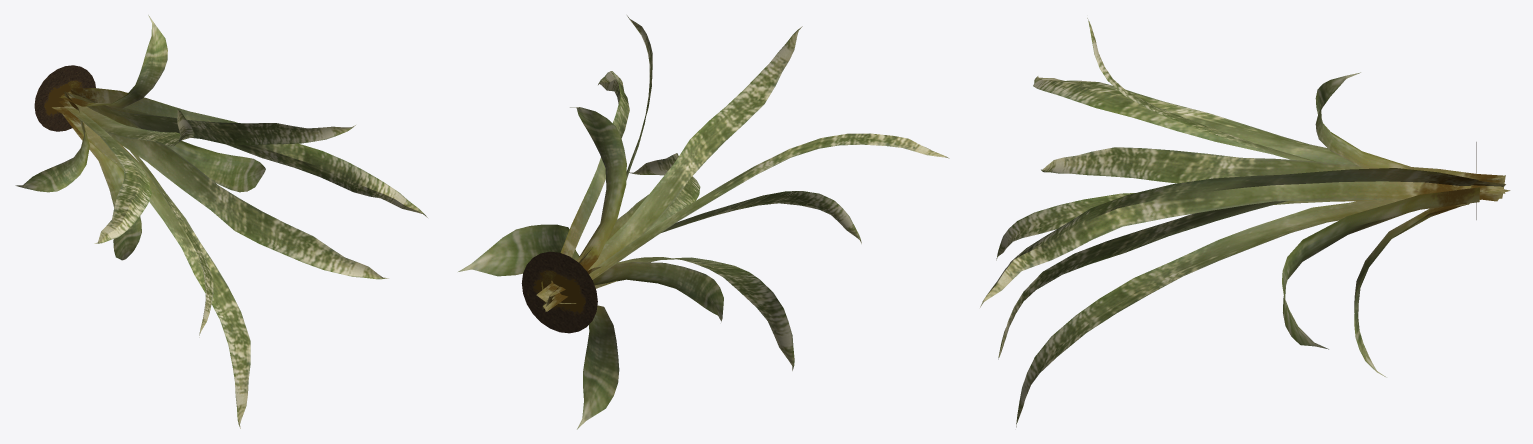
Rendered from MeshHouseplant_6_0_GeomSubset_2.obj.
The picture shows the model from 3 angles, left to right: view 1: azimuth 30°, elevation 25°; view 2: azimuth 150°, elevation 25°; view 3: azimuth 270°, elevation 25°; orthographic projection. The views are drawn at different scales.
Parts seen in each view (by area): view 1: MeshHouseplant_6_0_GeomSubset_2; view 2: MeshHouseplant_6_0_GeomSubset_2; view 3: MeshHouseplant_6_0_GeomSubset_2.
Boxes of the visible parts, x1=… form: MeshHouseplant_6_0_GeomSubset_2: x1=15, y1=15, x2=427, y2=428; MeshHouseplant_6_0_GeomSubset_2: x1=458, y1=15, x2=949, y2=429; MeshHouseplant_6_0_GeomSubset_2: x1=980, y1=18, x2=1510, y2=427.
Bounding box in the file's own units: 0.7231 × 0.6918 × 0.8609.
